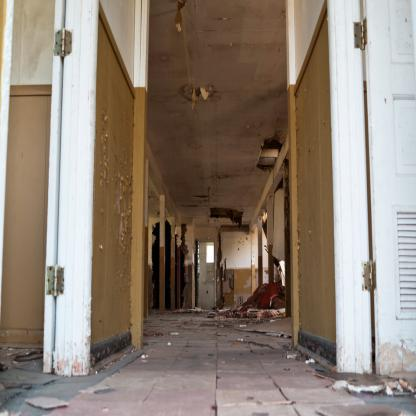door: (353, 0, 415, 381)
hinged: (362, 259, 379, 290), (56, 24, 69, 58), (356, 17, 369, 50), (50, 264, 62, 299)
